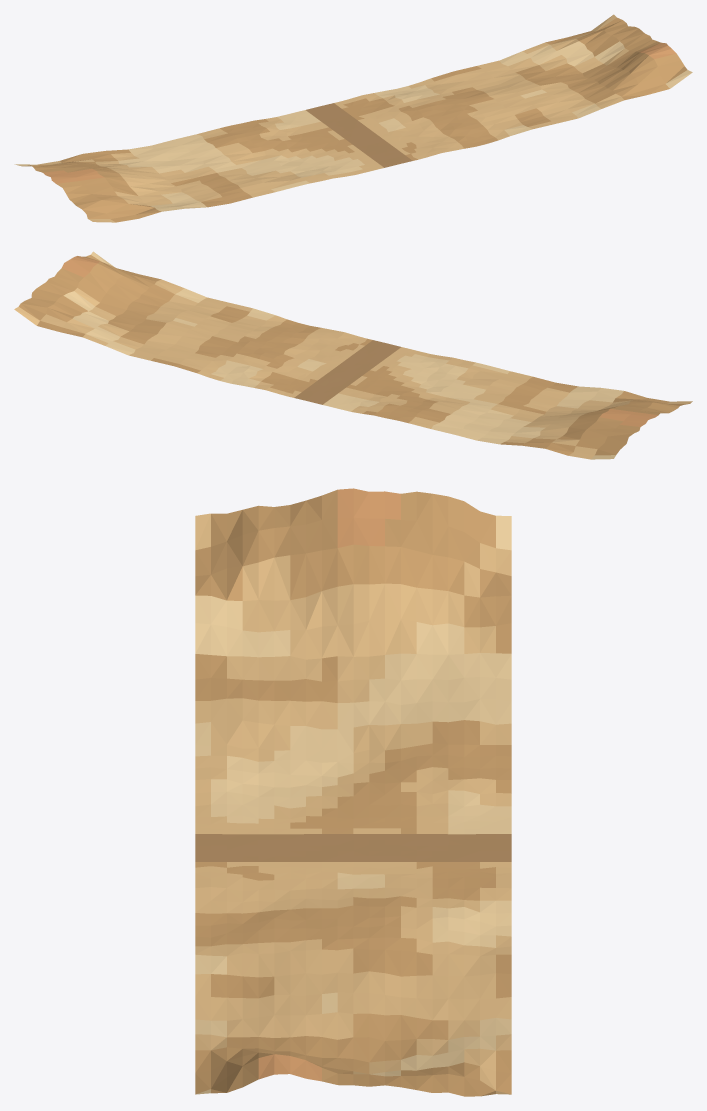
Rendered from SM_TerrainTile_A.fbx.
The picture shows the model from 3 angles, top to bottom: view 1: azimuth 30°, elevation 25°; view 2: azimuth 150°, elevation 25°; view 3: azimuth 270°, elevation 25°; orthographic projection. The views are drawn at different scales.
Parts seen in each view (by area): view 1: TerrainTile_A; view 2: TerrainTile_A; view 3: TerrainTile_A.
Part boxes in pixels (bbox=[...]): TerrainTile_A: bbox=[14, 14, 692, 222]; TerrainTile_A: bbox=[14, 251, 692, 459]; TerrainTile_A: bbox=[195, 488, 511, 1096].
Bounding box in the file's own units: 26409 × 6000 × 1324.
